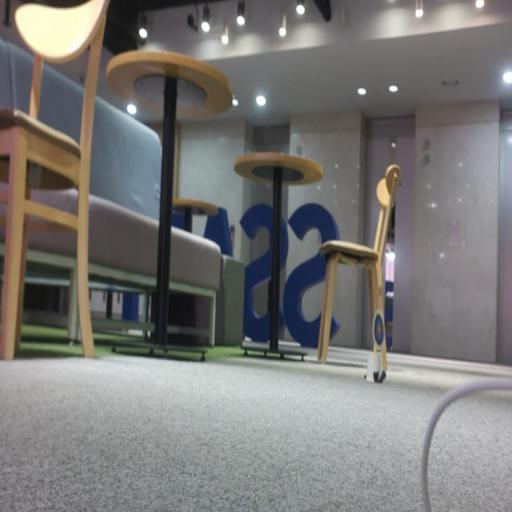target: (372, 309, 385, 351)
